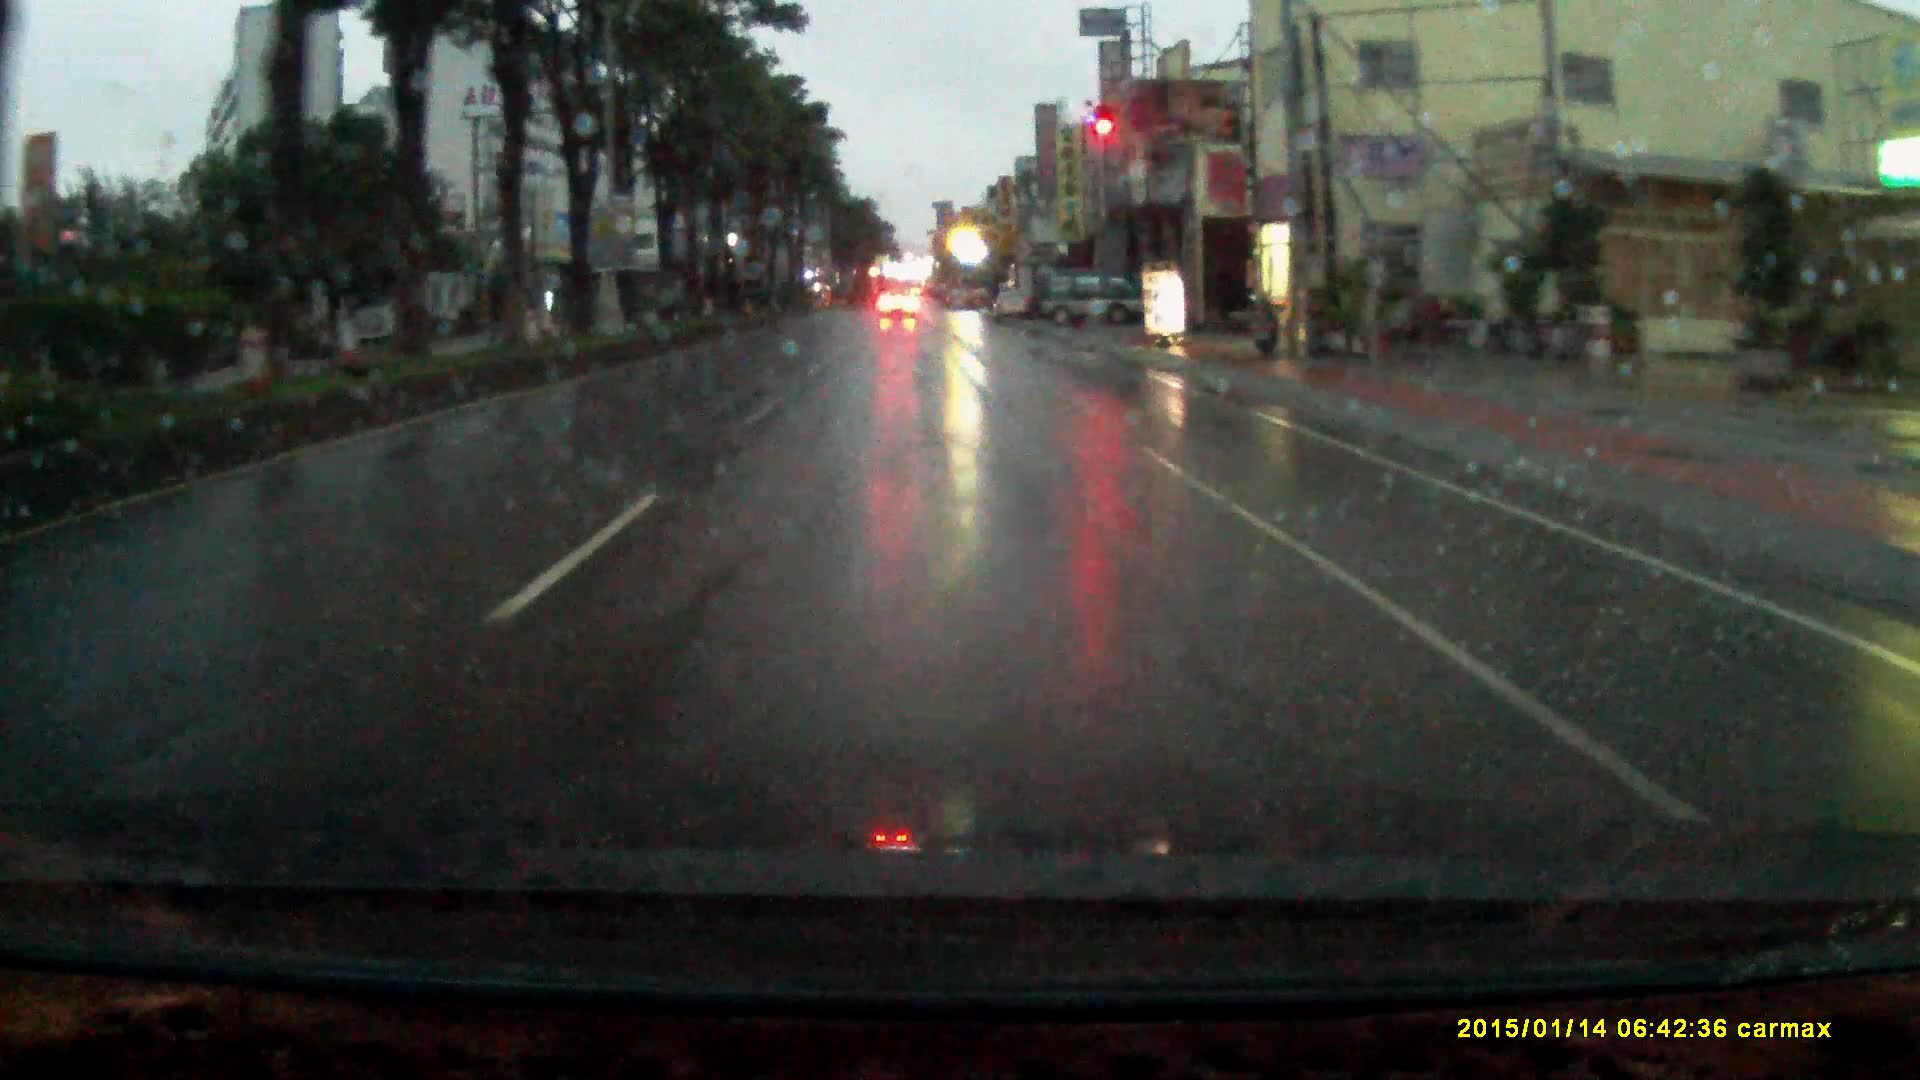vehicle: (1042, 269, 1145, 327), (878, 290, 923, 324), (993, 289, 1034, 324)
